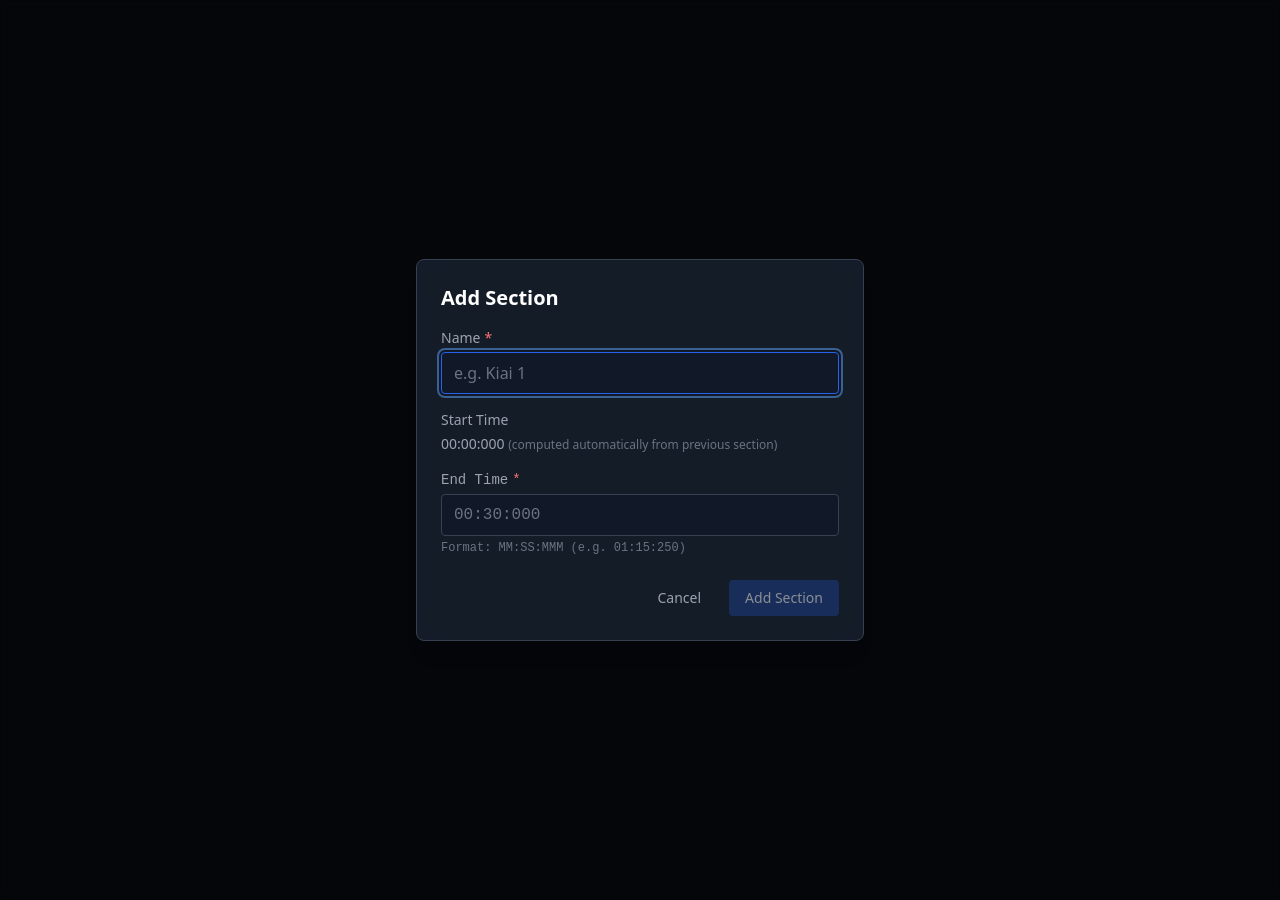
Test: CreateSectionModal › shows error for invalid end time format
Type "Bad" into the field labelled "Name*" at (640, 373), box [441, 352, 839, 394]
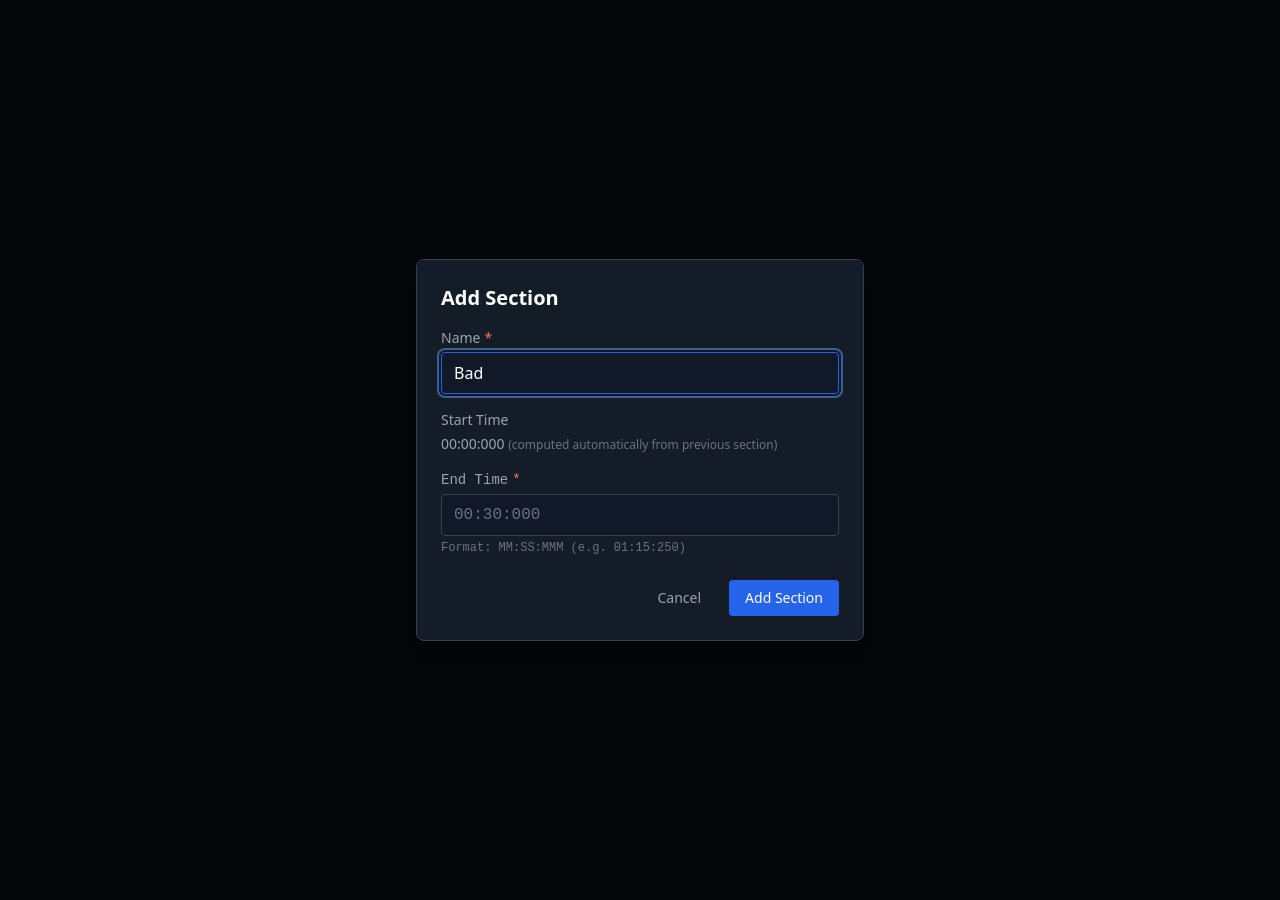
Type "not-a-time" into the field labelled "End Time*" at (640, 515), box [441, 494, 839, 536]
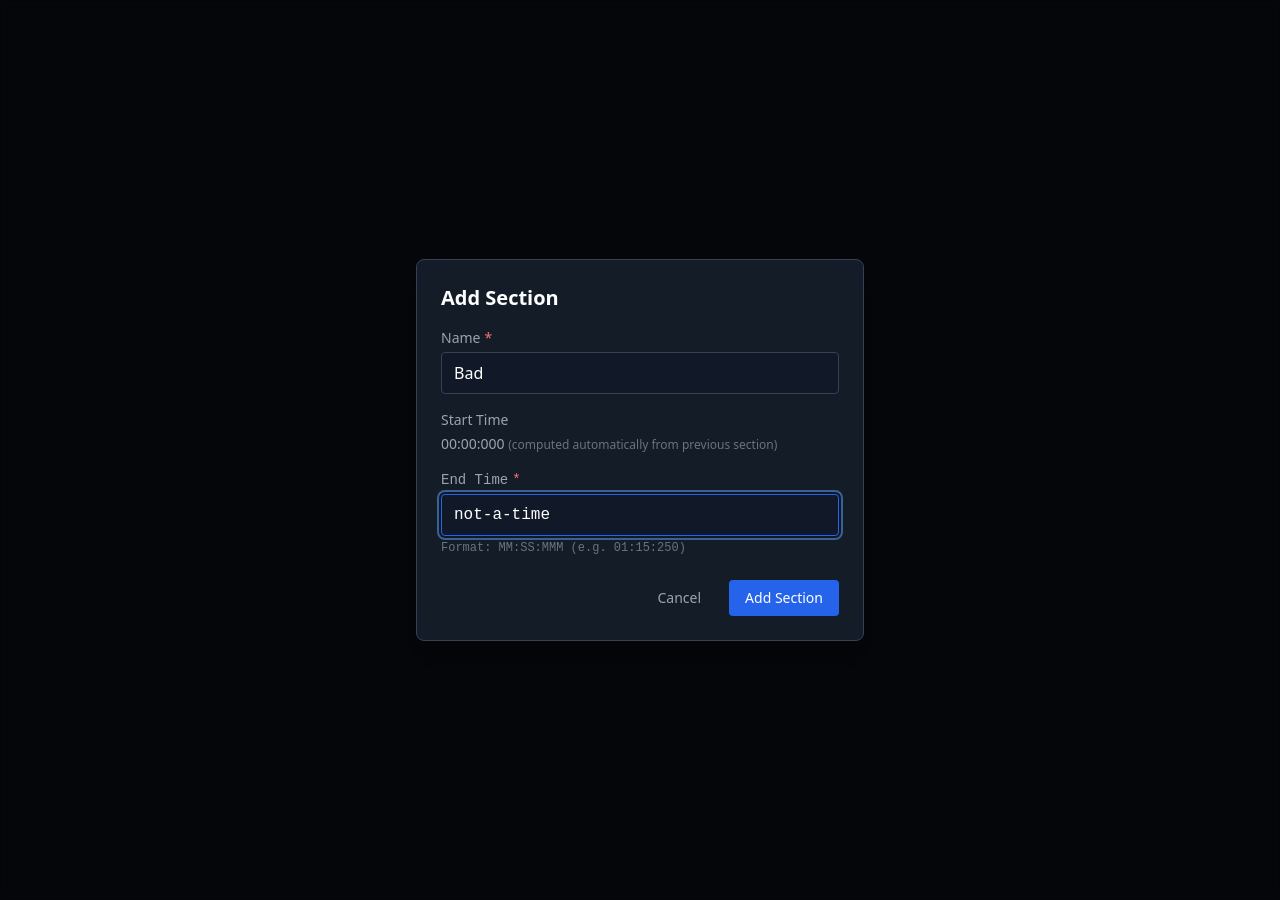
Click the button "Add Section" at (784, 598), box [729, 580, 839, 616]
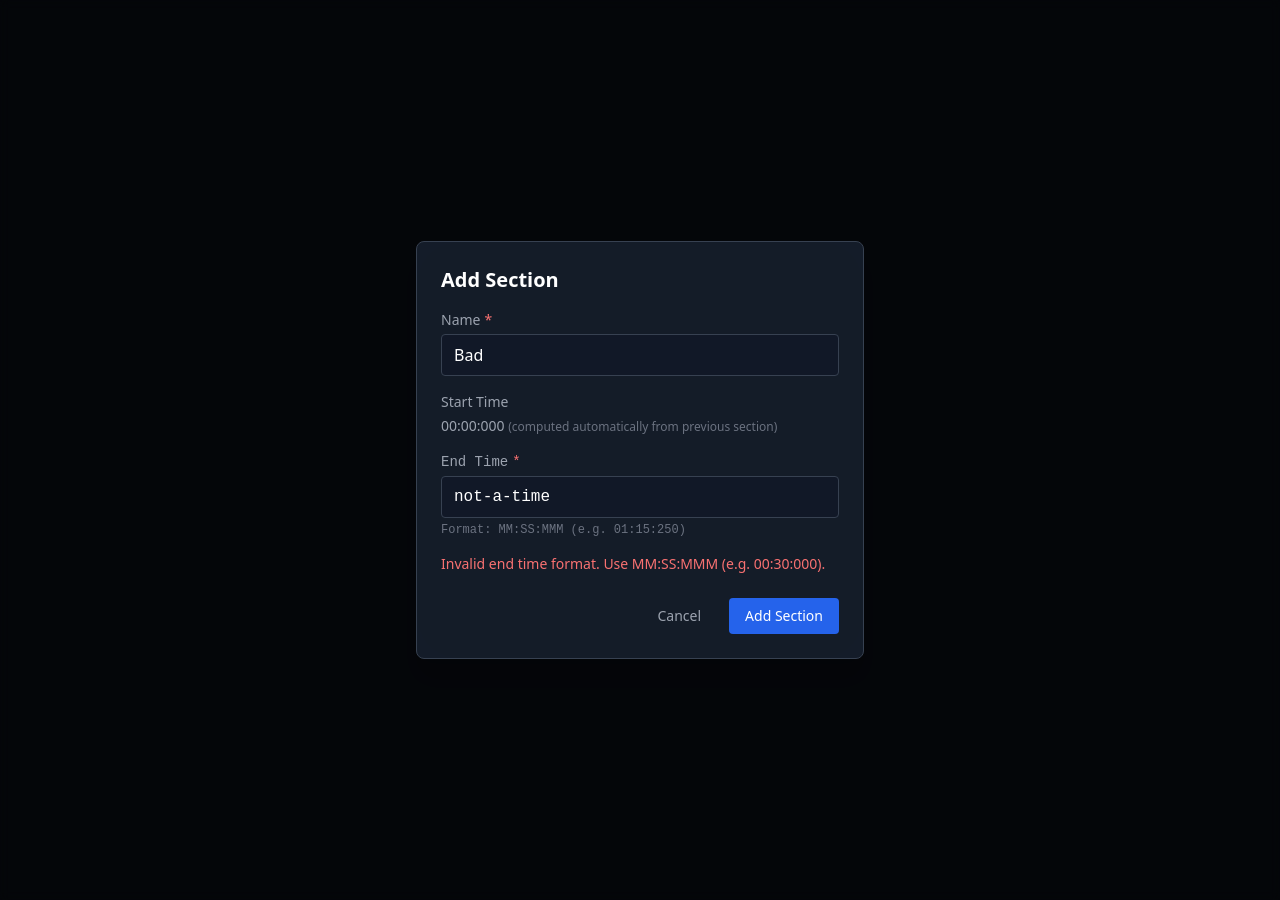
Check: the message shows "Invalid end time format", box [441, 554, 825, 573]
